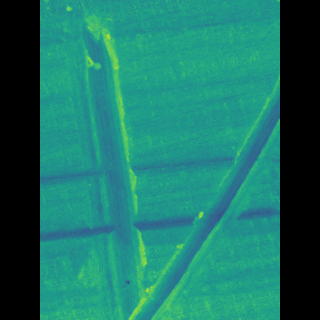Loch: (134, 69, 250, 320), (84, 7, 150, 319)
